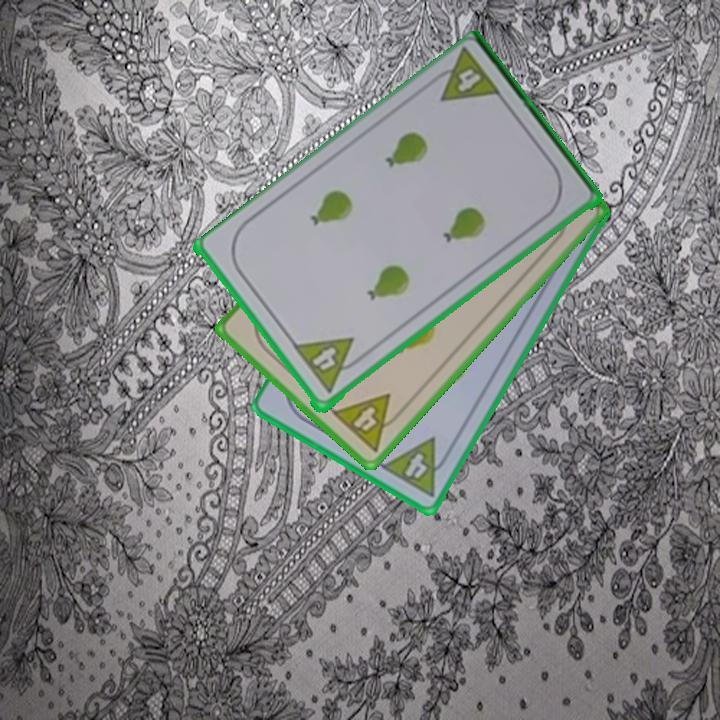4p: (328, 390, 409, 455), (378, 434, 456, 500), (294, 334, 353, 379), (453, 65, 484, 96)
